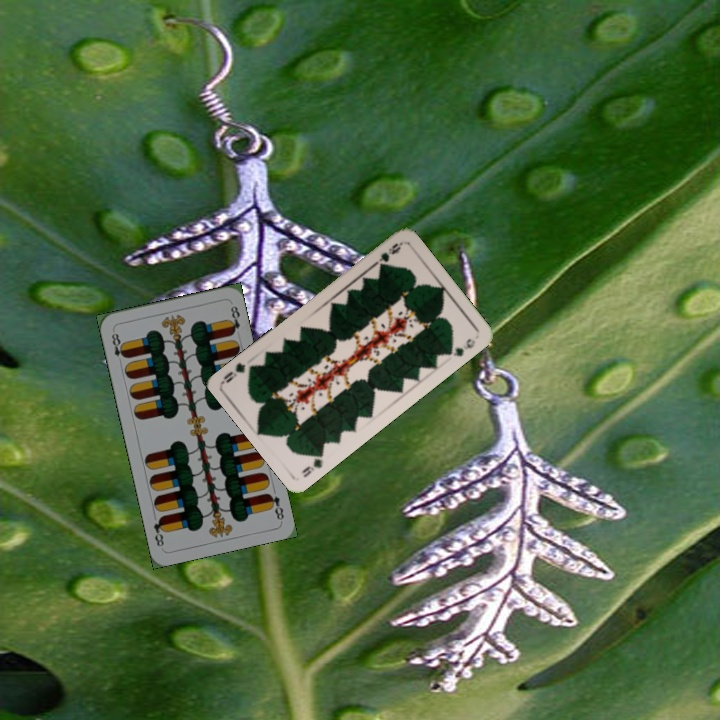E8: (107, 326, 129, 367), (263, 489, 287, 523)
G9: (369, 239, 404, 271), (297, 446, 327, 480)
